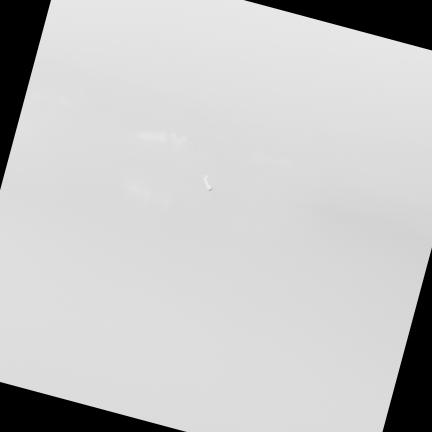Shahed: (202, 175, 214, 201)
